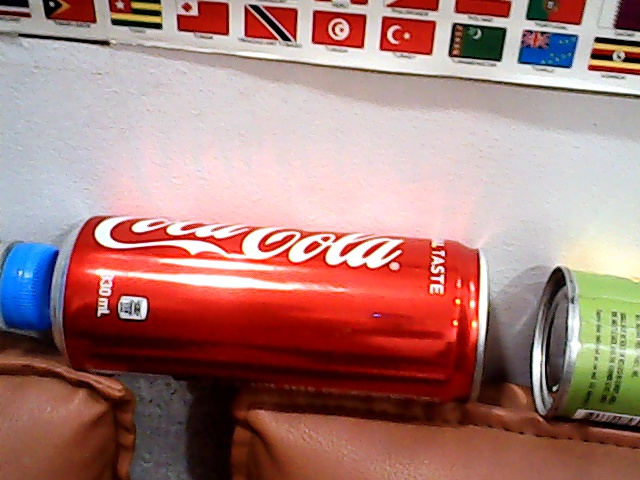Cola: (32, 190, 496, 424)
